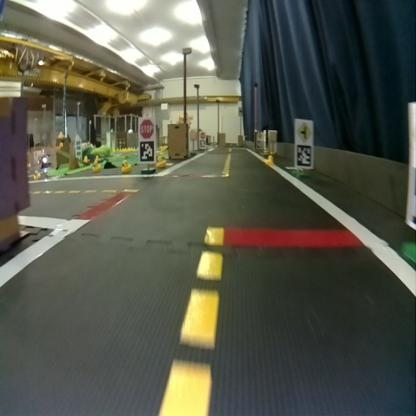Duckie: (121, 160, 131, 172), (156, 159, 165, 167), (264, 155, 270, 165)
Intersection sign: (296, 119, 312, 140)
QR code: (296, 145, 312, 167), (138, 140, 154, 162)
Stop sign: (138, 117, 154, 139)
